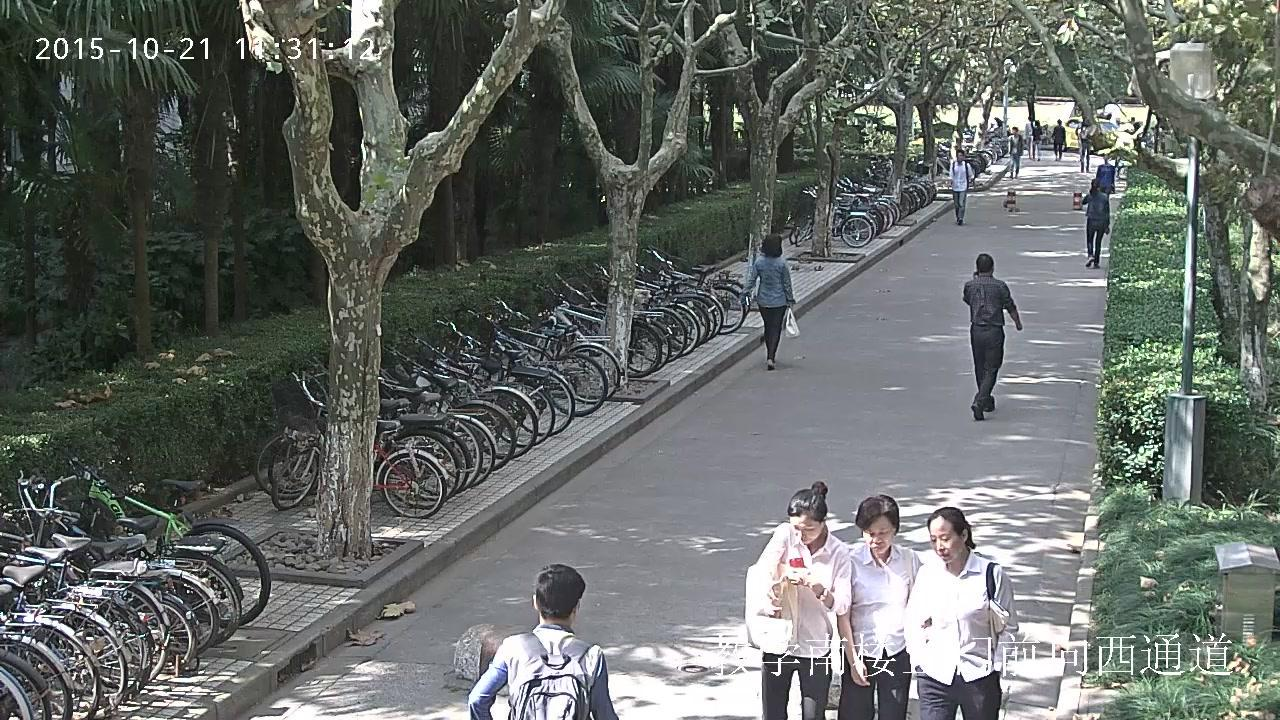face: (930, 515, 961, 562), (864, 516, 893, 552), (790, 515, 822, 545), (956, 152, 965, 162), (1012, 128, 1017, 134)
